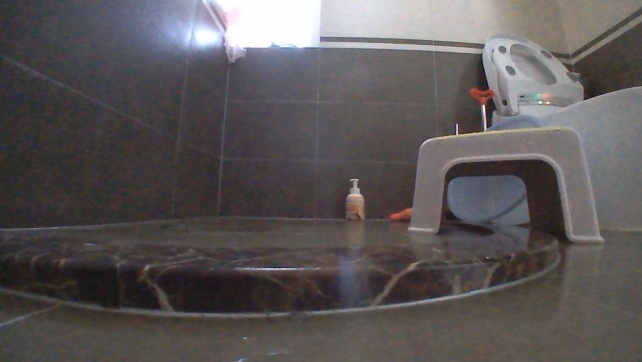toilet: (474, 28, 641, 236)
